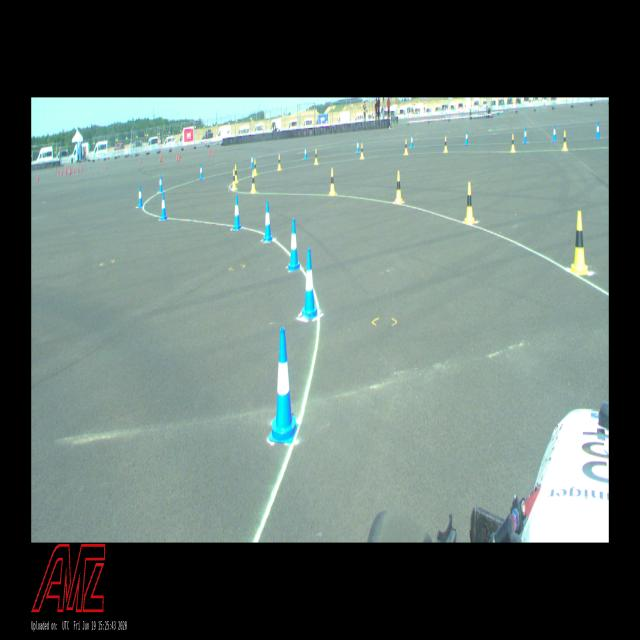blue_cone: (268, 328, 299, 443), (302, 248, 317, 319), (288, 218, 300, 272), (264, 201, 272, 242), (233, 196, 241, 230), (160, 192, 167, 220), (137, 185, 143, 207), (159, 175, 163, 192), (596, 122, 600, 138), (523, 128, 527, 144), (552, 125, 556, 141), (199, 164, 203, 180), (464, 130, 468, 145), (411, 134, 414, 148), (251, 154, 254, 168), (304, 146, 307, 159), (356, 140, 359, 153)
unknown_cone: (69, 168, 71, 175), (140, 157, 142, 164), (176, 154, 178, 161), (160, 156, 162, 162), (178, 156, 180, 161), (66, 168, 67, 175), (37, 174, 38, 181), (209, 149, 210, 156), (212, 150, 213, 157), (81, 166, 82, 172), (180, 152, 181, 158), (74, 167, 75, 172), (61, 170, 62, 175), (58, 170, 59, 175), (78, 167, 79, 172), (105, 164, 106, 169), (160, 157, 161, 162), (56, 166, 56, 172), (66, 167, 66, 172)
yellow_cone: (571, 211, 588, 275), (464, 182, 474, 224), (395, 171, 402, 203), (329, 168, 336, 196), (250, 170, 256, 193), (562, 131, 567, 150), (232, 169, 236, 190), (511, 134, 515, 152), (404, 139, 408, 155), (444, 136, 448, 152), (314, 149, 318, 165), (278, 154, 282, 170), (360, 144, 364, 160), (235, 164, 238, 183), (254, 160, 257, 176)
